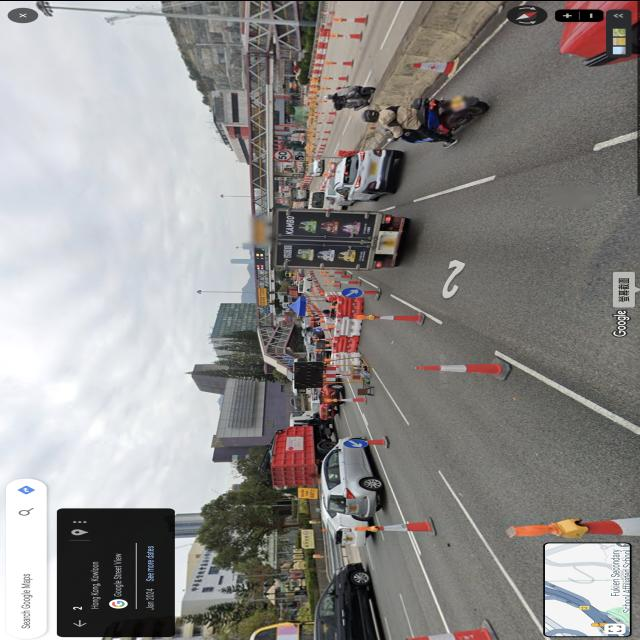Order-Sign: (342, 438, 368, 448), (341, 286, 363, 296), (276, 150, 290, 158), (314, 327, 322, 331)
Warning-Sign: (294, 150, 305, 159)
